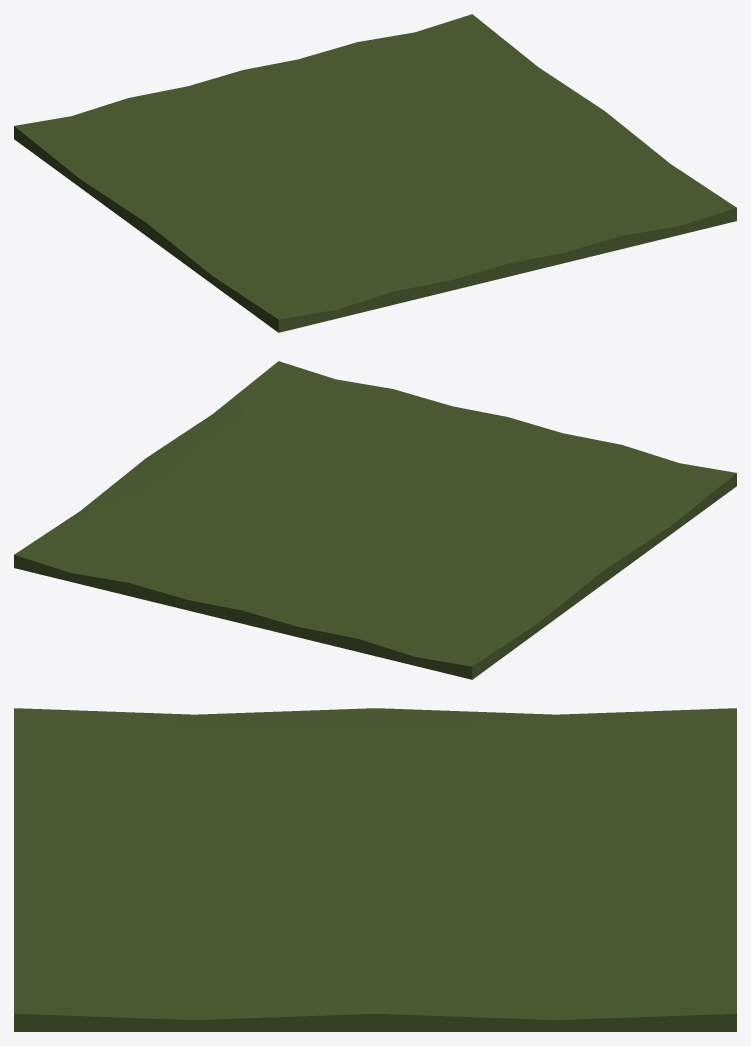
The picture shows the model from 3 angles, top to bottom: view 1: azimuth 30°, elevation 25°; view 2: azimuth 150°, elevation 25°; view 3: azimuth 270°, elevation 25°; orthographic projection. The views are drawn at different scales.
Visible parts, largest first — view 1: SM_Env_Grass_01; view 2: SM_Env_Grass_01; view 3: SM_Env_Grass_01.
Part boxes in pixels (box(x1,y1,x2,y2)): SM_Env_Grass_01: box(14, 14, 736, 332); SM_Env_Grass_01: box(14, 361, 736, 679); SM_Env_Grass_01: box(14, 708, 736, 1031).
Size of the model in its own units: 5 by 0.1383 by 5.
Materials: 1 (1 with a texture image).
